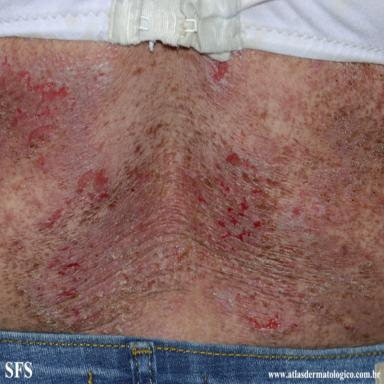Darier_s-Disease: (0, 40, 384, 349)
